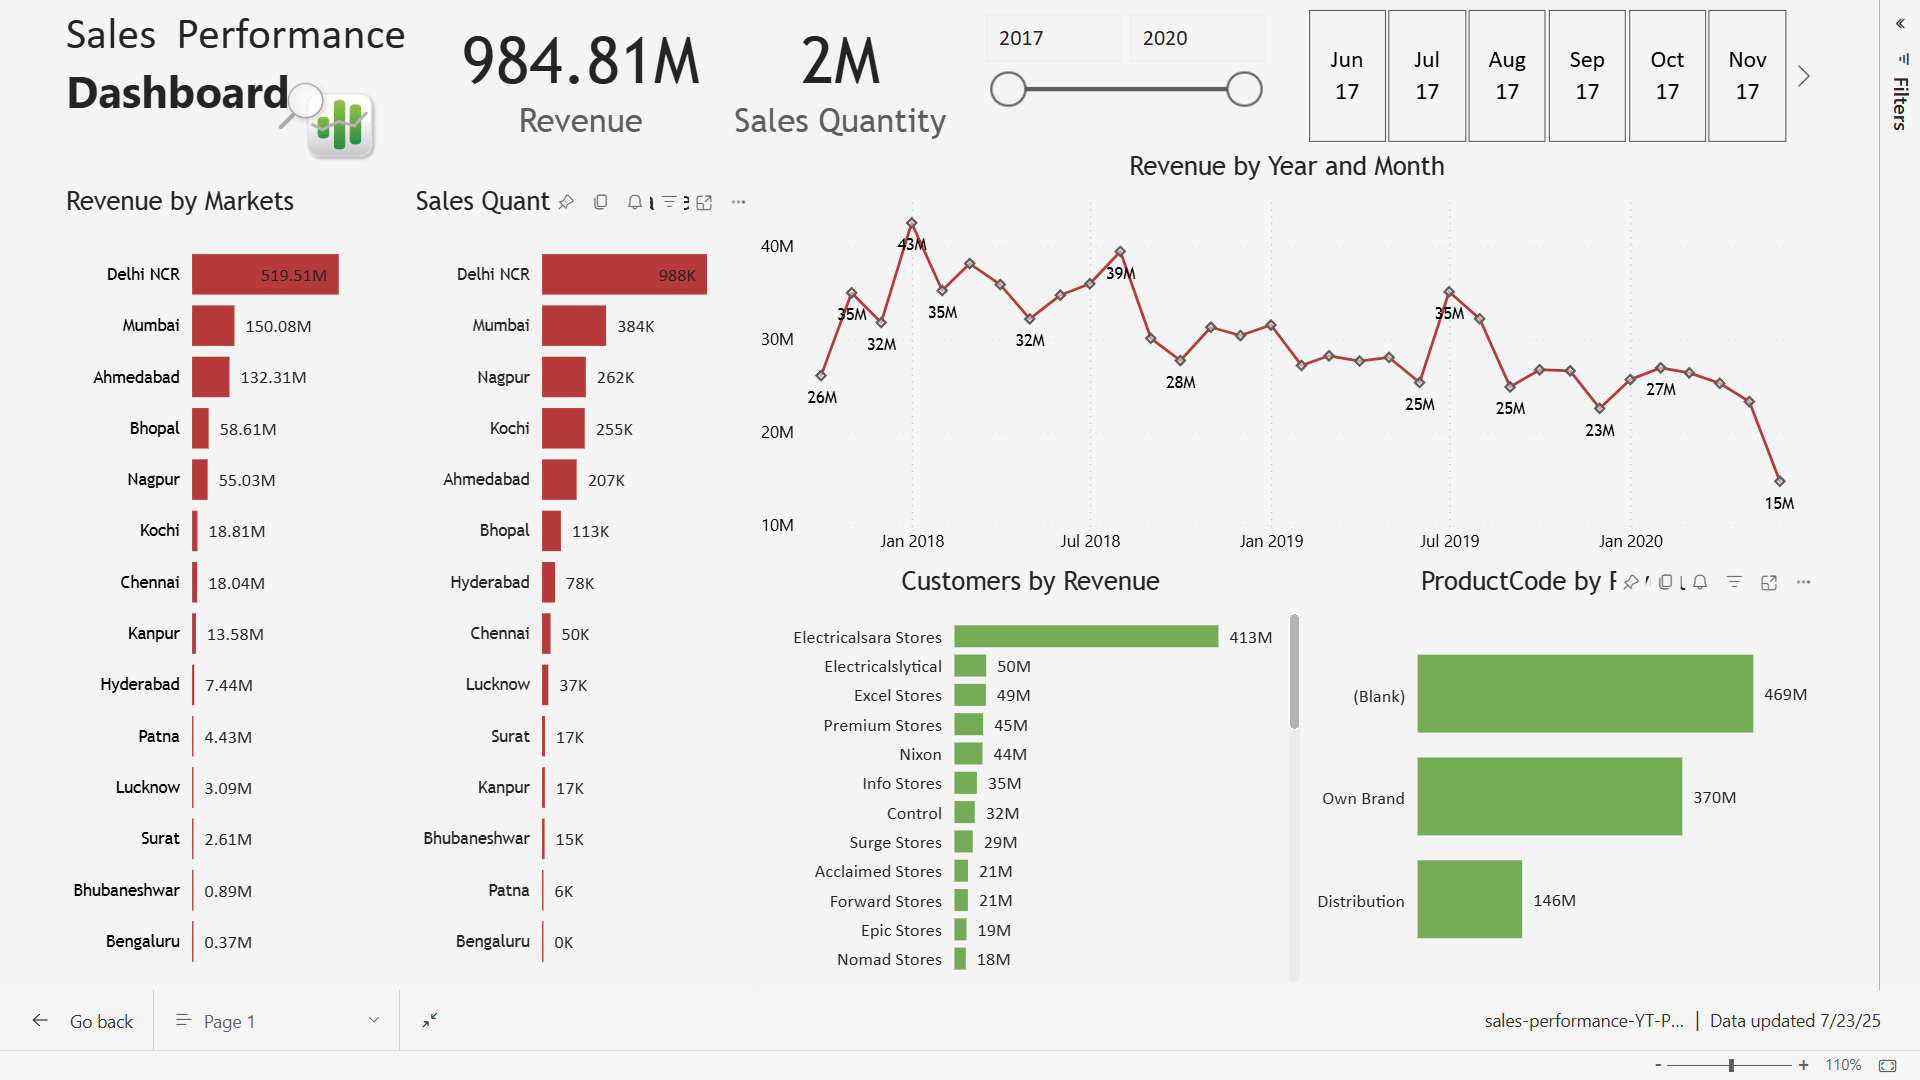

This screenshot's page, from the dashboard's own definition file:
{"tool":"powerbi","page":{"name":"Page 1","canvas":[1280,720],"ordinal":0},"visuals":[{"type":"card","fields":{"Values":["Base-measures.Revenue"]},"box":[283.7,0,192,110.1],"z":0},{"type":"card","fields":{"Values":["Base-measures.Sales Quantity"]},"box":[475.7,0,185.9,110.1],"z":1000},{"type":"clusteredBarChart","title":"Revenue by Markets","fields":{"Y":["Base-measures.Revenue"],"Category":["markets.markets_name"]},"box":[0,135.7,254.3,584.5],"z":2000},{"type":"clusteredBarChart","title":"Sales Quantity by Markets","fields":{"Y":["Base-measures.Sales Quantity"],"Category":["markets.markets_name"]},"box":[254.3,135.7,250.7,584.5],"z":3000},{"type":"slicer","title":"Year","fields":{"Values":["date.year"]},"box":[661.6,0,221.3,110.1],"z":4000},{"type":"slicer","title":"Date","fields":{"Values":["date.cy_date"]},"box":[882.9,0,397.4,110.1],"z":5000},{"type":"clusteredBarChart","title":"Customers by Revenue","fields":{"Category":["customers.custmer_name"],"Y":["Base-measures.Revenue"]},"box":[505,412.1,402.3,308.2],"z":6000},{"type":"clusteredBarChart","title":"ProductCode by Revenue","fields":{"Y":["Base-measures.Revenue"],"Category":["products.product_type"]},"box":[907,411.7,373.2,308.7],"z":7000},{"type":"lineChart","fields":{"Y":["Base-measures.Revenue"],"Category":["date.cy_date.Variation.Date Hierarchy.Year","date.cy_date.Variation.Date Hierarchy.Month"]},"box":[505,110.1,775.3,302],"z":8000},{"type":"textbox","box":[0,0,283.7,110.1],"z":9000},{"type":"image","box":[151.6,55,90.5,68.5],"z":10000}]}

Visuals, with their boxes on the page's 1280x720 design canvas (x1, y1, x2, y2). These are canvas units, not pixel positions in the 1920x1080 screenshot, which may show the page scaled, cropped or inside an application window:
card - Base-measures.Revenue: 284:0:476:110
card - Base-measures.Sales Quantity: 476:0:662:110
"Revenue by Markets" clusteredBarChart: 0:136:254:720
"Sales Quantity by Markets" clusteredBarChart: 254:136:505:720
"Year" slicer: 662:0:883:110
"Date" slicer: 883:0:1280:110
"Customers by Revenue" clusteredBarChart: 505:412:907:720
"ProductCode by Revenue" clusteredBarChart: 907:412:1280:720
lineChart - Base-measures.Revenue x date.cy_date.Variation.Date Hierarchy.Year: 505:110:1280:412
textbox: 0:0:284:110
image: 152:55:242:124
